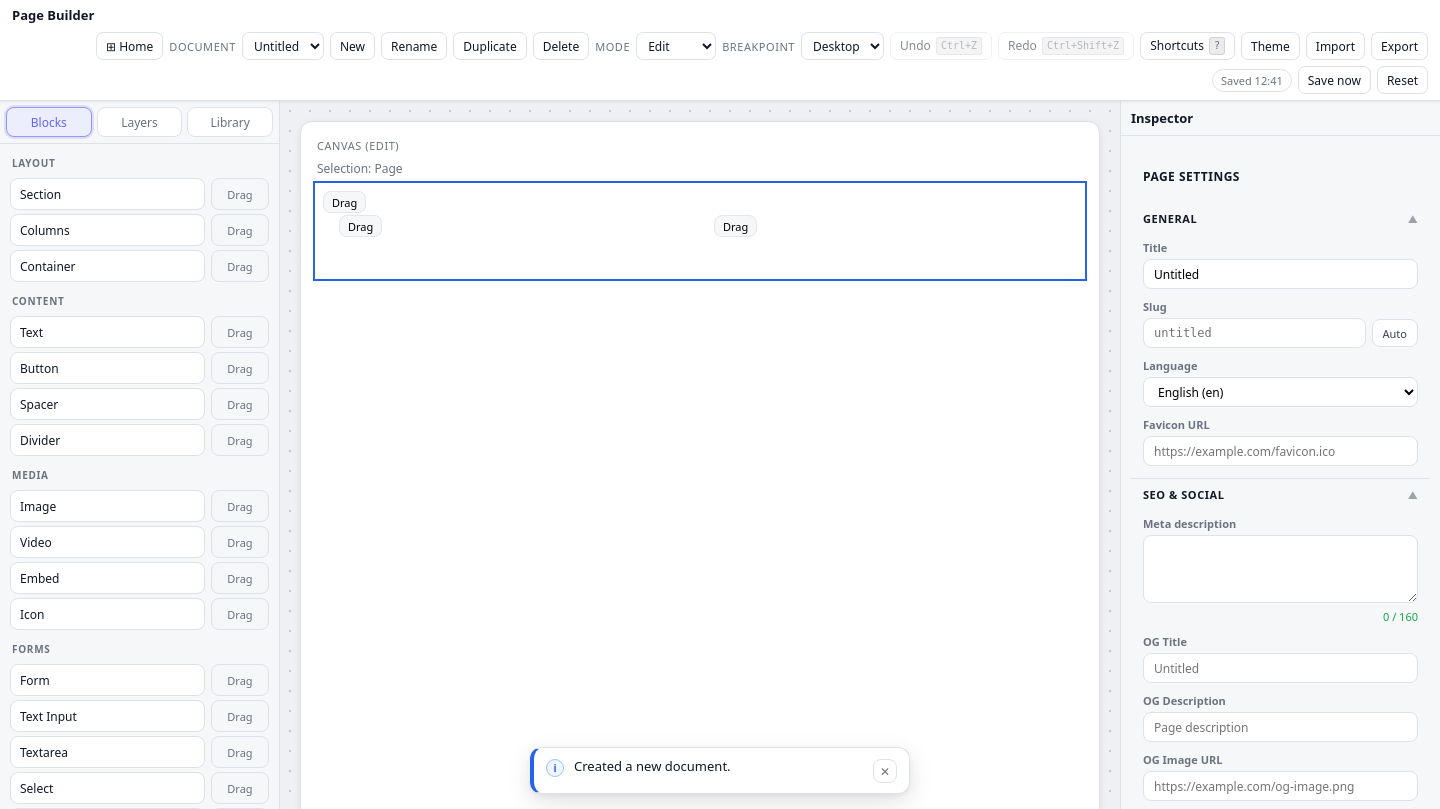
Test: Block context menu integration › clicking Duplicate from context menu duplicates the node
Expected: the button "Save now" is enabled, [1298,66,1371,94]
Right-click the element showing "Drag Drag Drag Drag" at (540, 214), box [323,191,757,237]
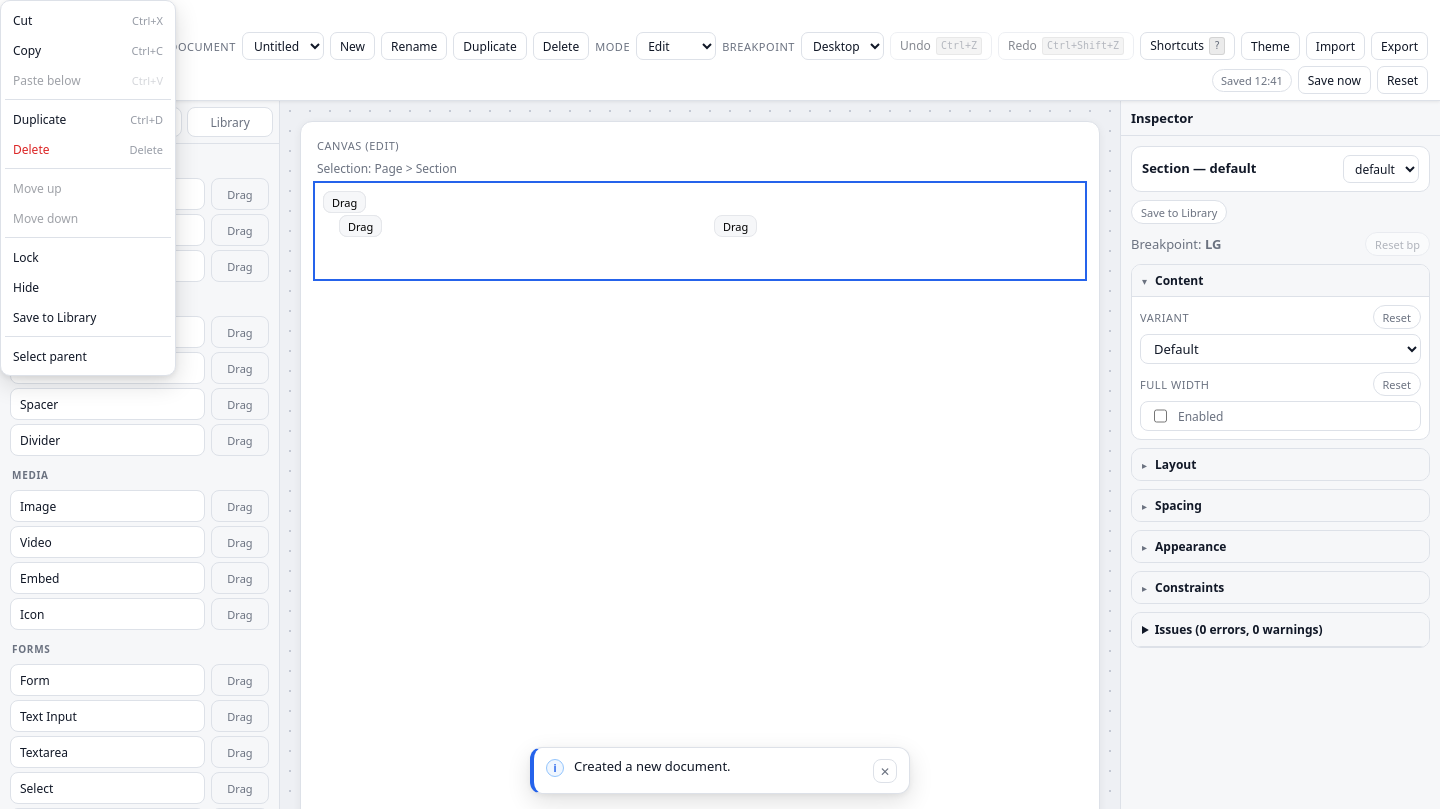
Click the menu item "Duplicate Ctrl+D" at (88, 119), box [5,104,171,134]
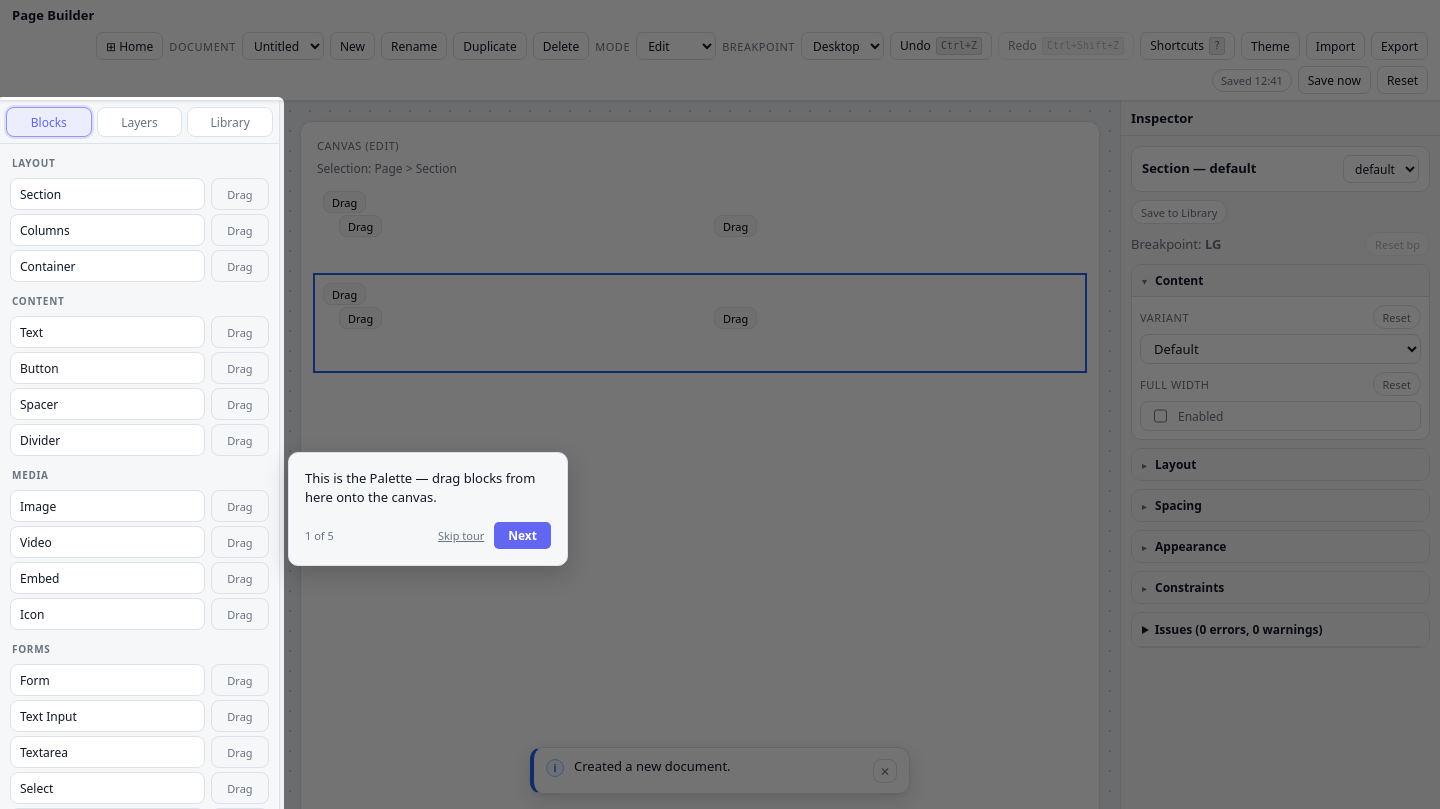
Result: the menu is gone
